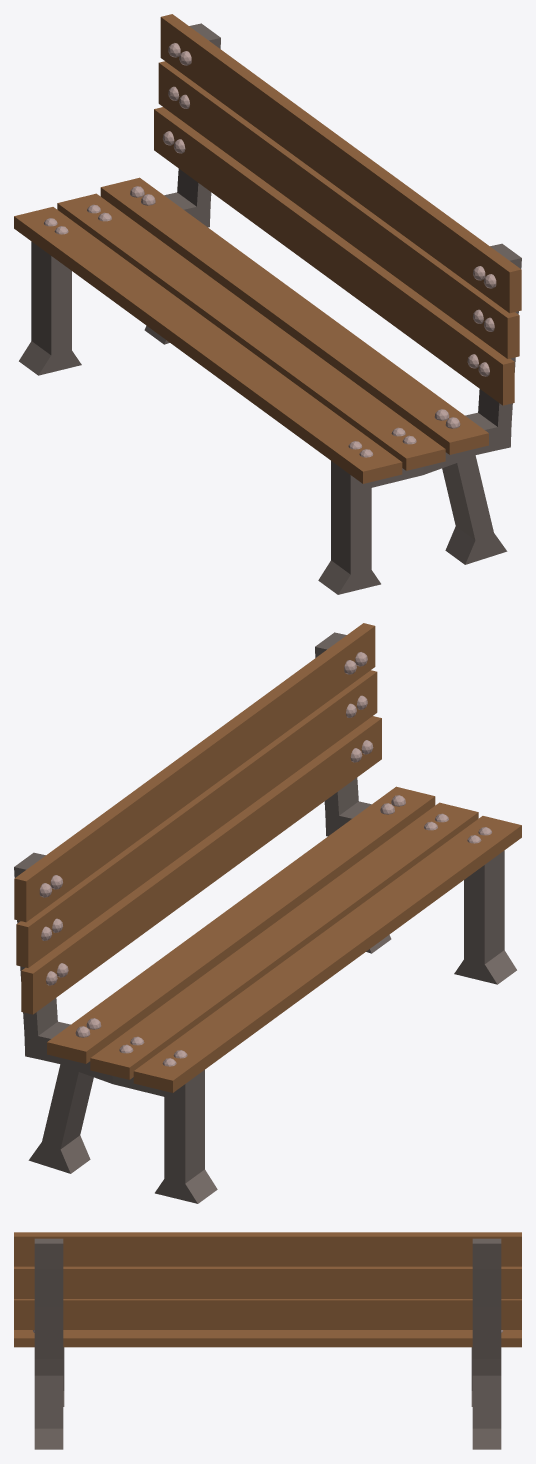
The model's file is canh_ghe.glb.
The picture shows the model from 3 angles, top to bottom: view 1: azimuth 30°, elevation 25°; view 2: azimuth 150°, elevation 25°; view 3: azimuth 270°, elevation 25°; orthographic projection. The views are drawn at different scales.
Visible parts, largest first — view 1: Cube, Cube.001, Icosphere; view 2: Cube, Cube.001, Icosphere; view 3: Cube, Cube.001.
Boxes of the visible parts, x1,y1,x2,y2 form: Cube: [14, 14, 521, 483]; Cube.001: [19, 23, 521, 594]; Icosphere: [44, 43, 496, 457]; Cube: [14, 623, 521, 1092]; Cube.001: [14, 632, 516, 1203]; Icosphere: [39, 652, 491, 1066]; Cube: [14, 1232, 521, 1347]; Cube.001: [34, 1238, 501, 1449].
Bounding box in the file's own units: 1.91 × 2.93 × 6.28.
